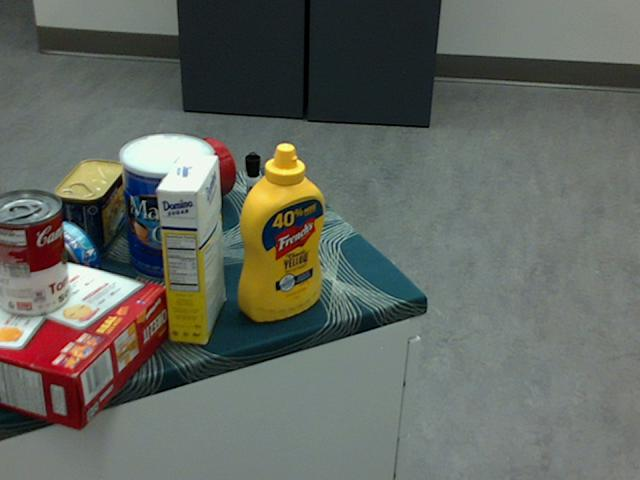cracker_box: (0, 242, 167, 430)
gelatin_box: (0, 174, 5, 230)
large_marker: (245, 151, 261, 244)
master_chef_can: (117, 133, 213, 282)
mug: (145, 137, 234, 215)
mustard_bottle: (237, 141, 325, 320)
potted_meat_can: (54, 157, 124, 259)
sugar_box: (155, 152, 226, 343)
tomato_soup_can: (0, 189, 69, 317)
tuna_fish_can: (20, 220, 100, 303)
